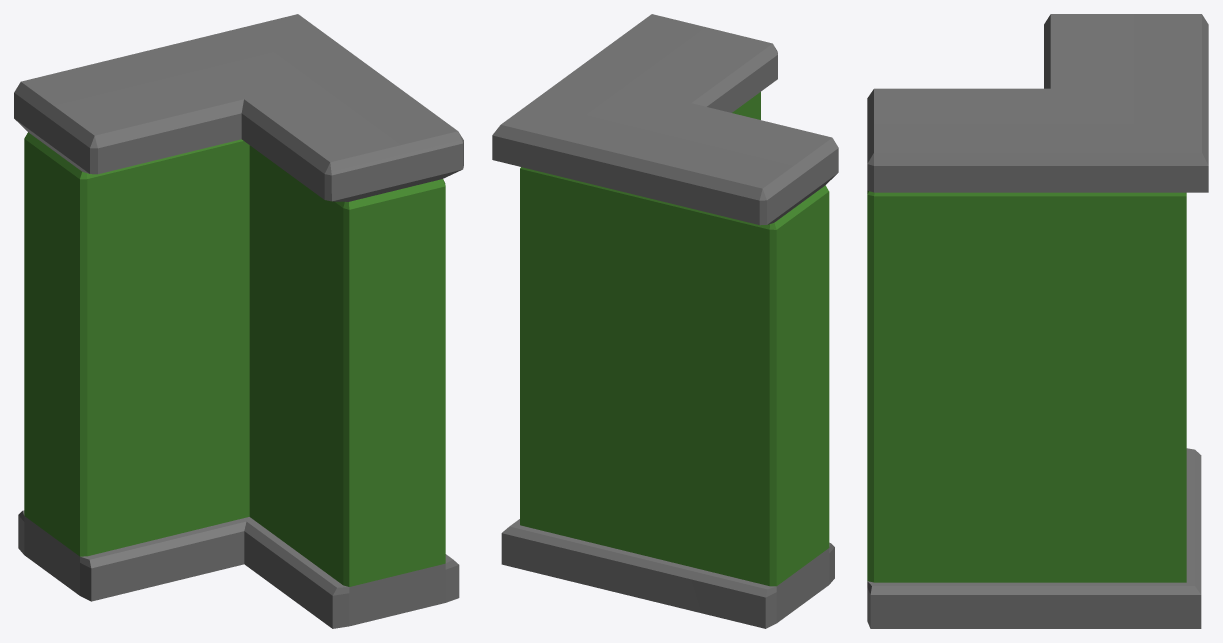
Rendered from HighWall_3_1.fbx.
3 renders of one model, left to right at view 1: azimuth 30°, elevation 25°; view 2: azimuth 150°, elevation 25°; view 3: azimuth 270°, elevation 25°, orthographic. The views are drawn at different scales.
Visible parts, largest first — view 1: HighWall_3_1; view 2: HighWall_3_1; view 3: HighWall_3_1.
Boxes of the visible parts, x1,y1,x2,y2 form: HighWall_3_1: [14, 14, 463, 628]; HighWall_3_1: [492, 14, 838, 628]; HighWall_3_1: [867, 14, 1208, 628].
Bounding box in the file's own units: 132 × 203 × 132.
